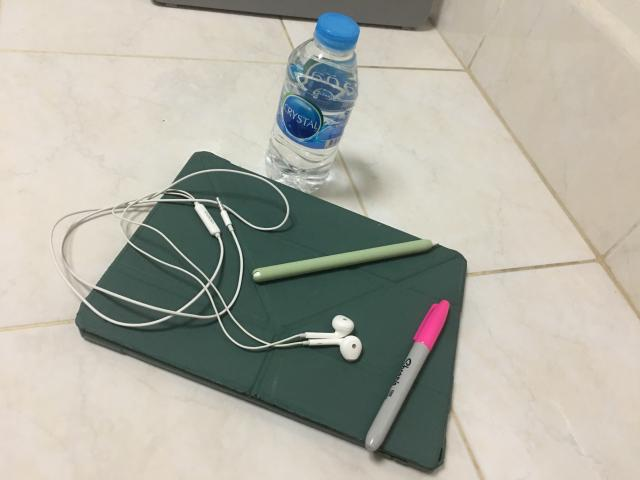Pen: (365, 300, 449, 451)
bottle: (265, 12, 359, 192)
wire: (49, 168, 362, 362)
